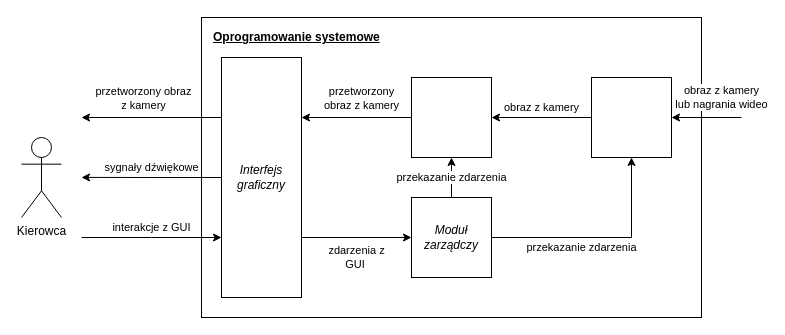
This 785x335 diagram has some shape labels left out. The shapes that lost their labels are listed below. From the top down, each one's centre as x and y in pixels, then its label:
At (451,117): "Silnik przetwarzania obrazu".
At (631,117): "Odbiornik obrazu".
